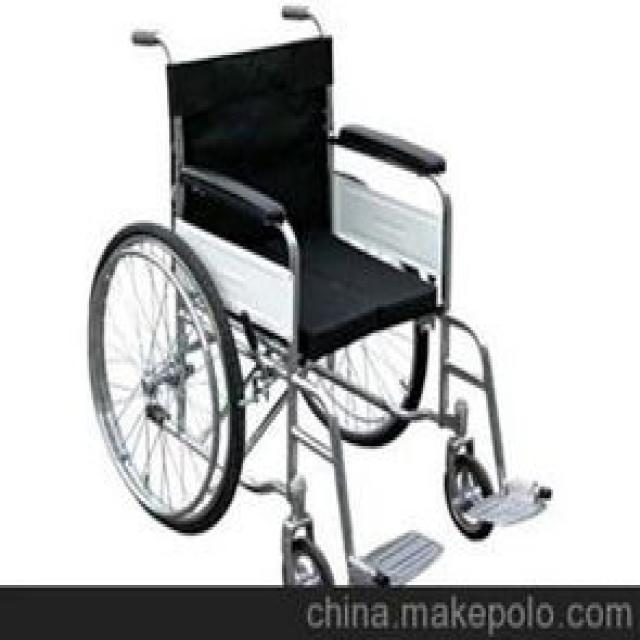wheelchair: (30, 0, 573, 585)
